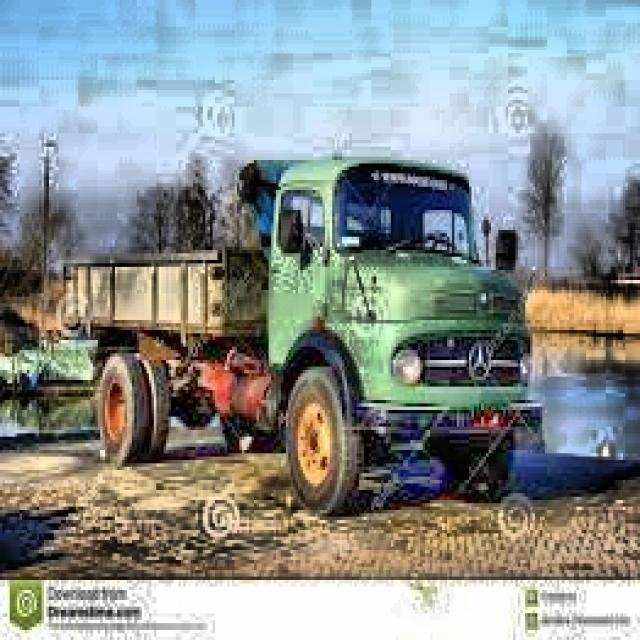dump_truck: (68, 146, 542, 514)
